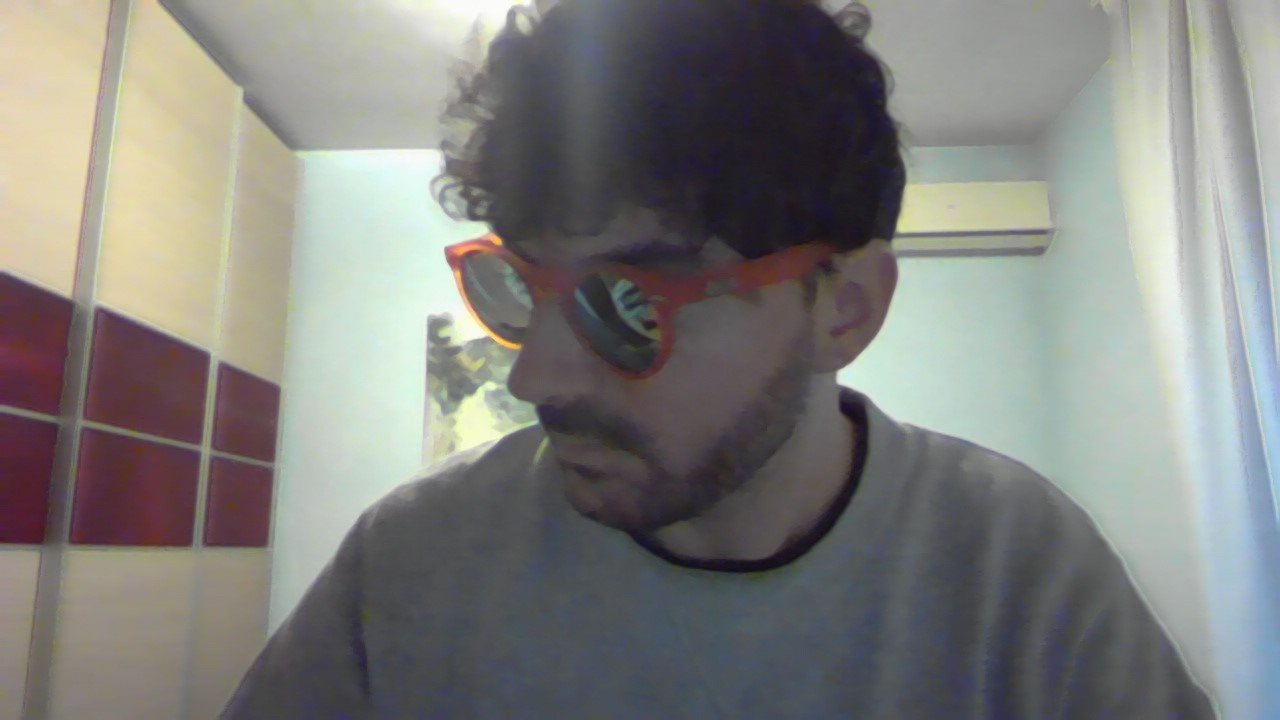Glasses: (438, 222, 866, 385)
